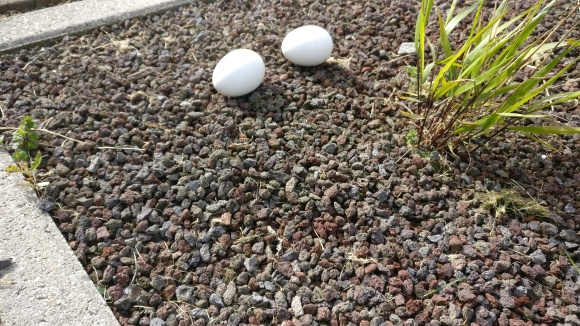egg: (211, 48, 265, 98), (281, 24, 333, 67)
